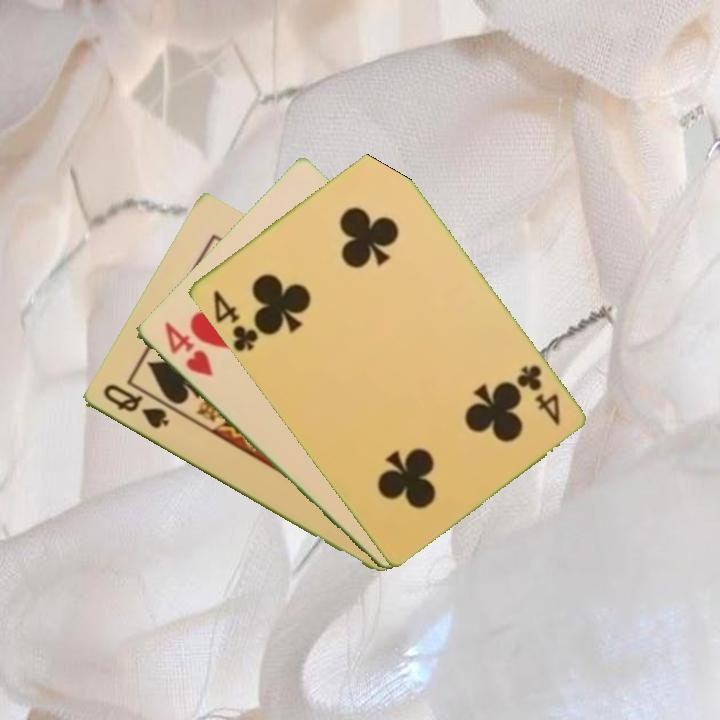4c: (208, 286, 265, 355), (512, 361, 563, 429)
4h: (160, 317, 215, 380)
Qs: (99, 380, 172, 432)
